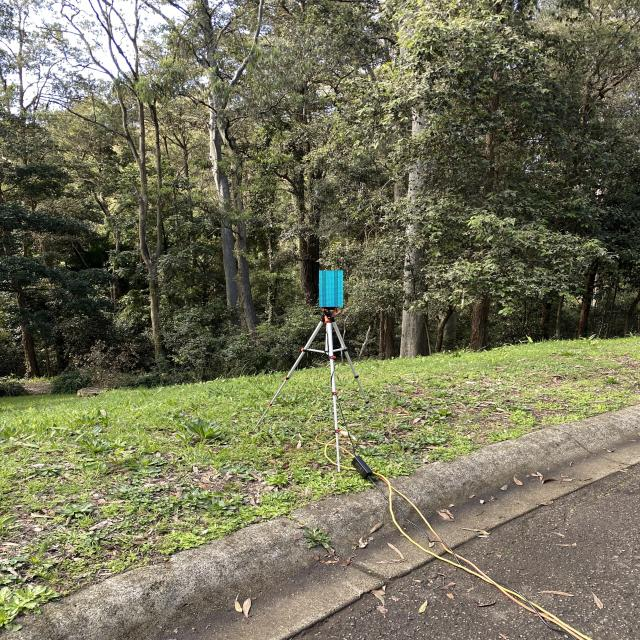matrix: (318, 269, 347, 309)
